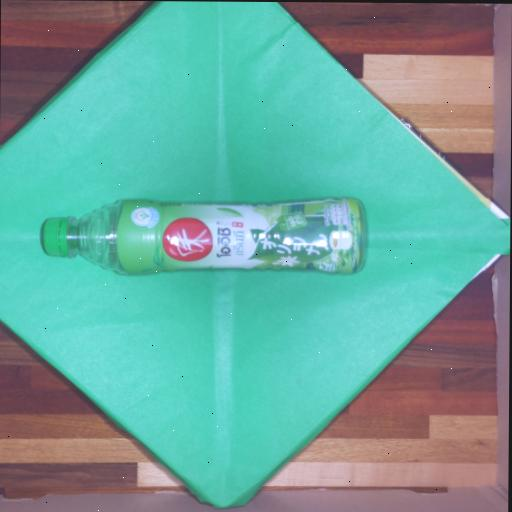bottle: (42, 199, 363, 274)
